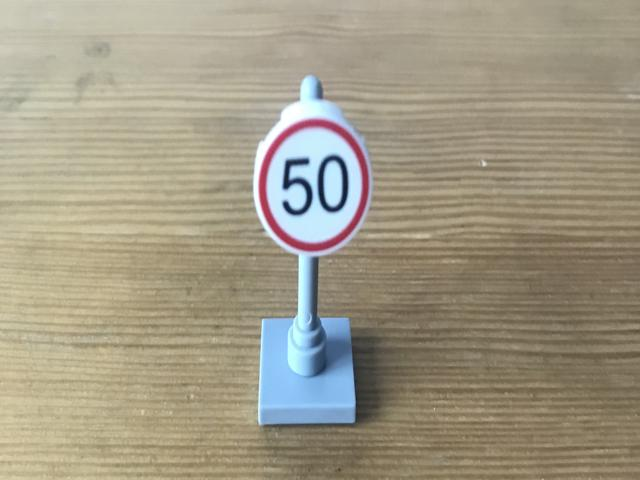tempolimit 50: (257, 118, 375, 256)
